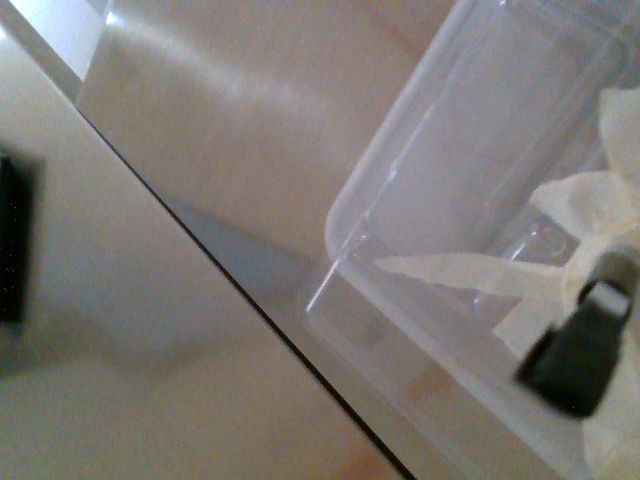test_strip: (508, 279, 628, 422)
